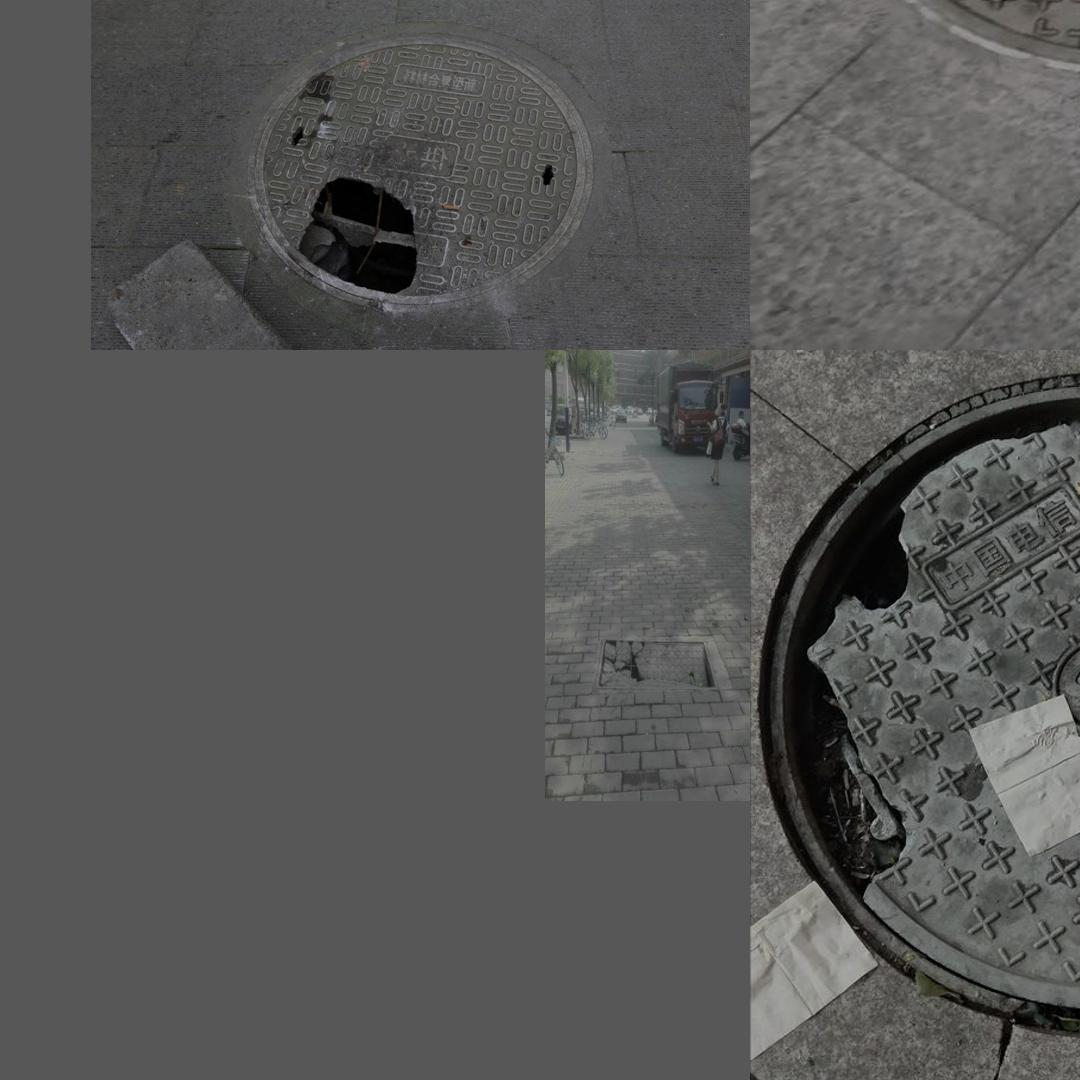broke: (763, 368, 1080, 1042), (246, 31, 593, 305), (829, 0, 1080, 113), (593, 637, 718, 692)
